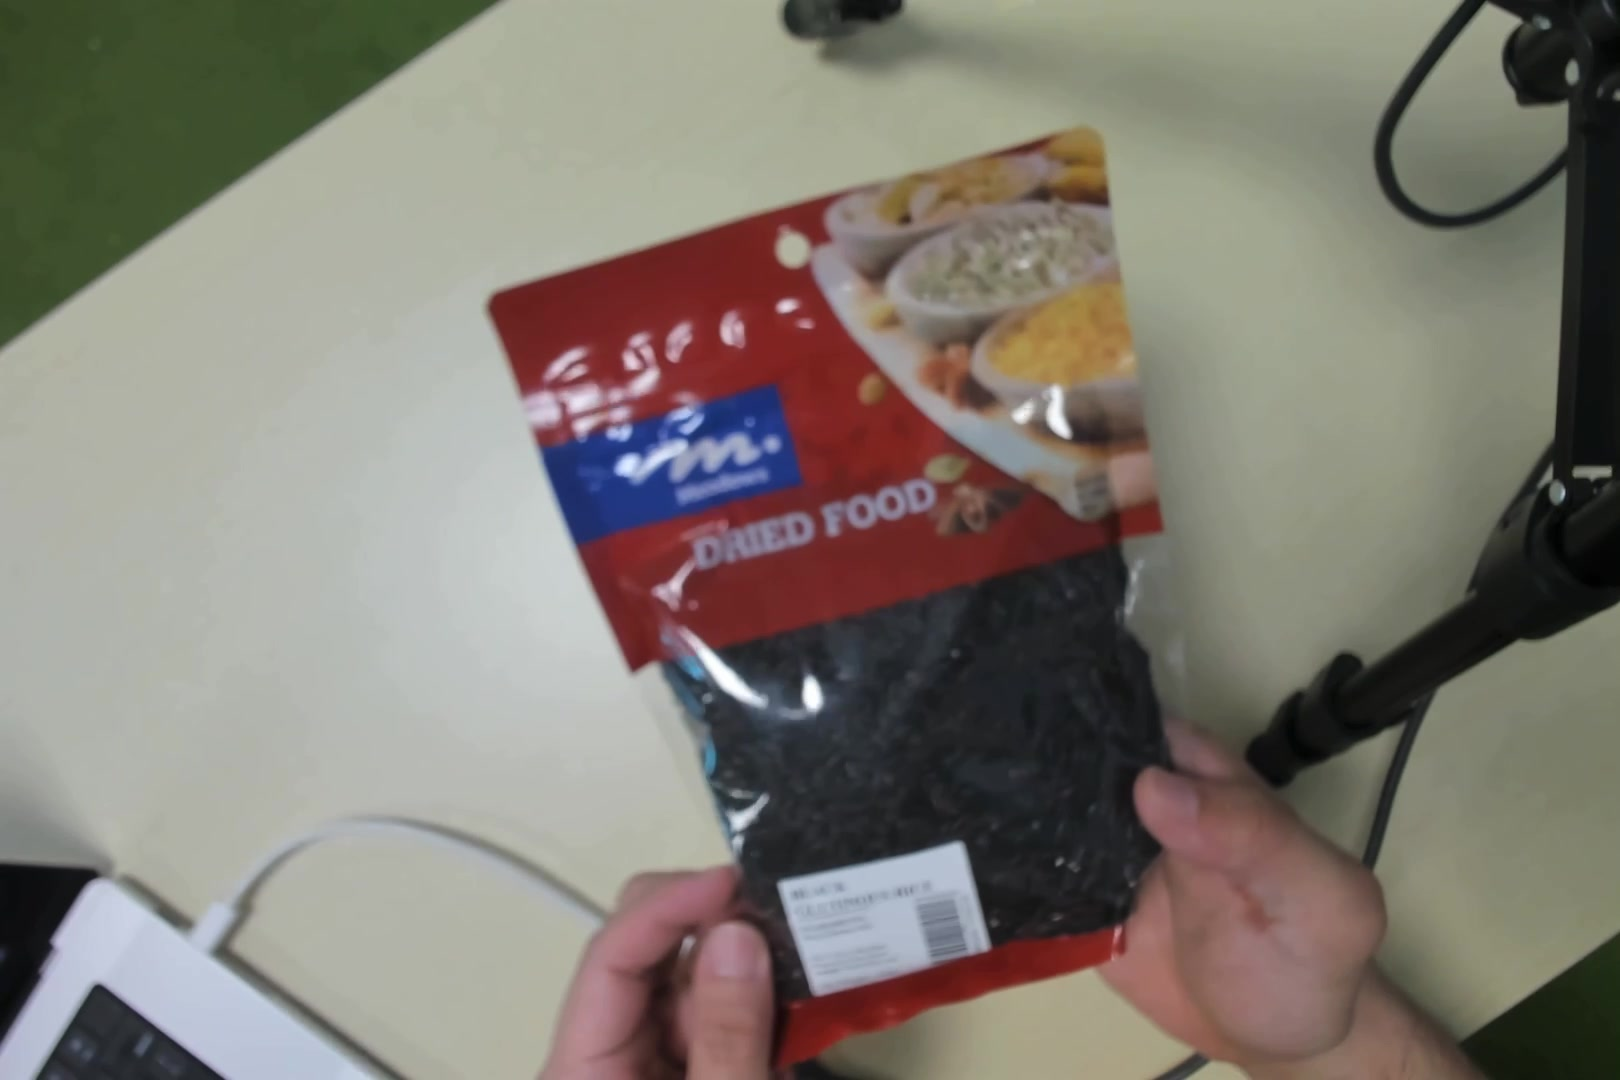OtherDriedFood_100-199g_NonHalal_NonHealthy: (593, 196, 1186, 965)
